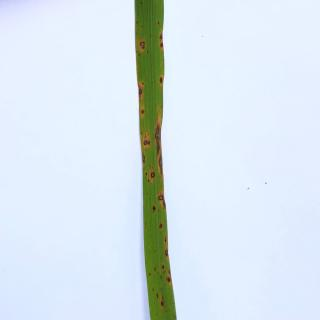Blast: (150, 120, 166, 165), (146, 26, 171, 54), (134, 36, 152, 59), (155, 192, 170, 208), (140, 130, 153, 148), (153, 220, 168, 233), (160, 246, 173, 261), (157, 72, 168, 88), (155, 293, 166, 308), (137, 83, 146, 101), (163, 272, 174, 285)
